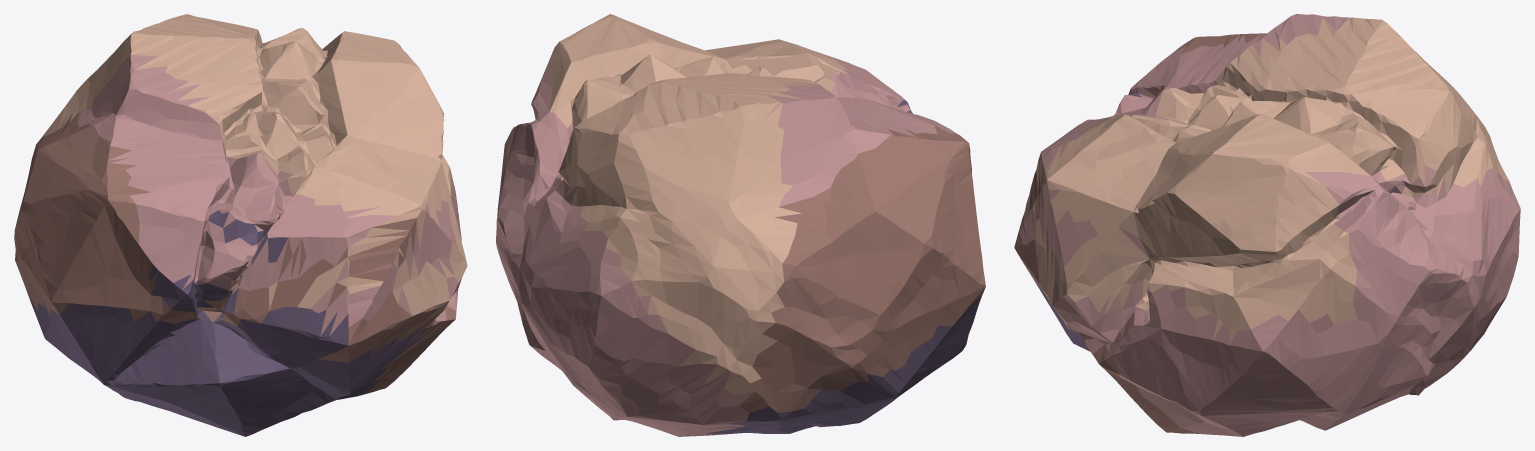
Rendered from rock_gold.glb.
3 views of the same model, side by side, from view 1: azimuth 30°, elevation 25°; view 2: azimuth 150°, elevation 25°; view 3: azimuth 270°, elevation 25° (orthographic). The views are drawn at different scales.
Parts seen in each view (by area): view 1: geometry_0; view 2: geometry_0; view 3: geometry_0.
Part boxes in pixels (x1=…): geometry_0: x1=14, y1=14, x2=467, y2=436; geometry_0: x1=496, y1=14, x2=985, y2=436; geometry_0: x1=1014, y1=14, x2=1520, y2=436.
Size of the model in its own units: 1.98 by 1.49 by 1.98.
